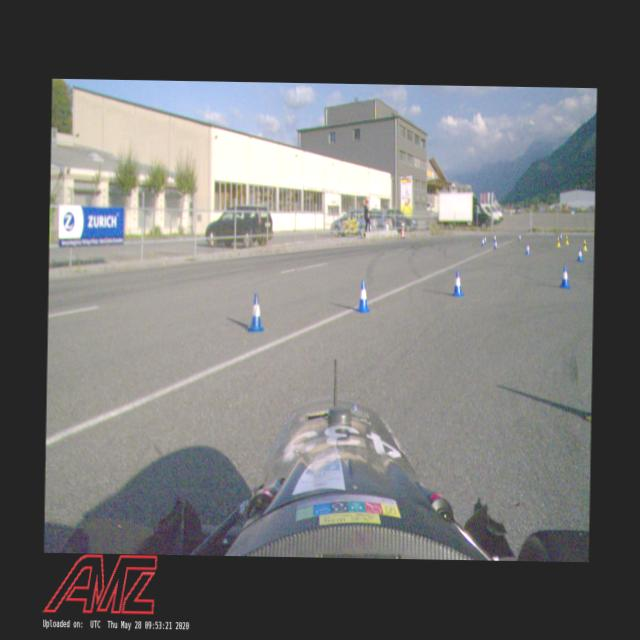blue_cone: (247, 294, 264, 332), (355, 278, 372, 314), (452, 269, 464, 297), (559, 263, 571, 289), (576, 246, 584, 262), (525, 241, 531, 254), (493, 238, 498, 250), (492, 234, 497, 242), (483, 234, 487, 243), (518, 233, 522, 240), (480, 238, 484, 245), (560, 232, 562, 239)
yellow_cone: (582, 239, 588, 251), (564, 235, 570, 245), (556, 236, 560, 247)
